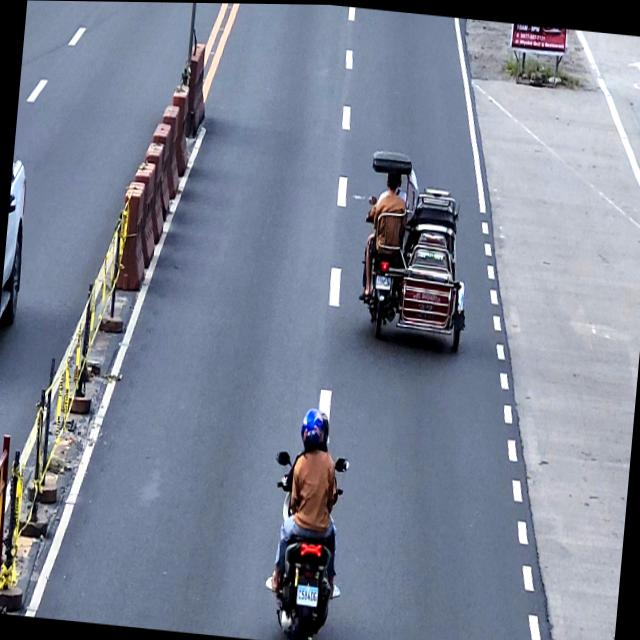Car: (0, 155, 32, 335)
License-Plate: (295, 583, 319, 605), (375, 274, 391, 289)
Motorcycle: (258, 445, 350, 640)
Tricycle: (353, 144, 479, 354)
